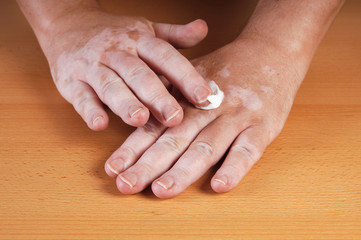vitiligo: (59, 25, 255, 178)
